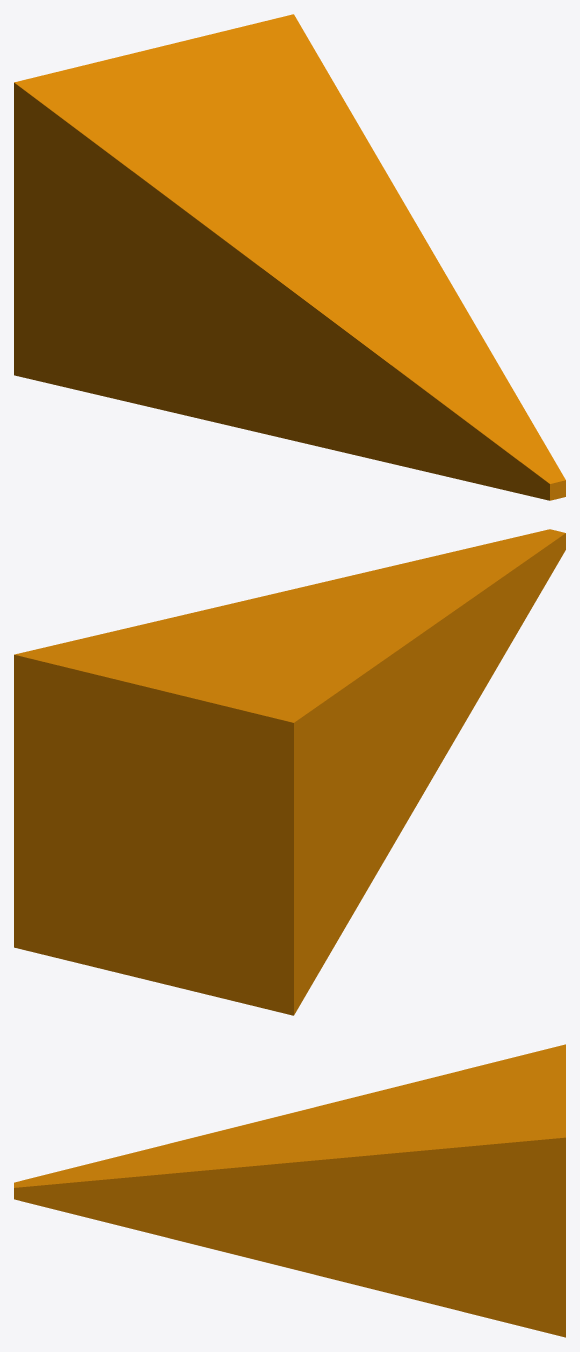
The model's file is marker.glb.
3 views of the same model, one above another, from view 1: azimuth 30°, elevation 25°; view 2: azimuth 150°, elevation 25°; view 3: azimuth 270°, elevation 25° (orthographic). The views are drawn at different scales.
Parts seen in each view (by area): view 1: Cube; view 2: Cube; view 3: Cube.
Boxes of the visible parts, box(x1,y1,x2,y2) form: Cube: box(14, 14, 565, 500); Cube: box(14, 529, 565, 1015); Cube: box(14, 1044, 565, 1337).
Bounding box in the file's own units: 0.5489 × 0.5489 × 1.37.
